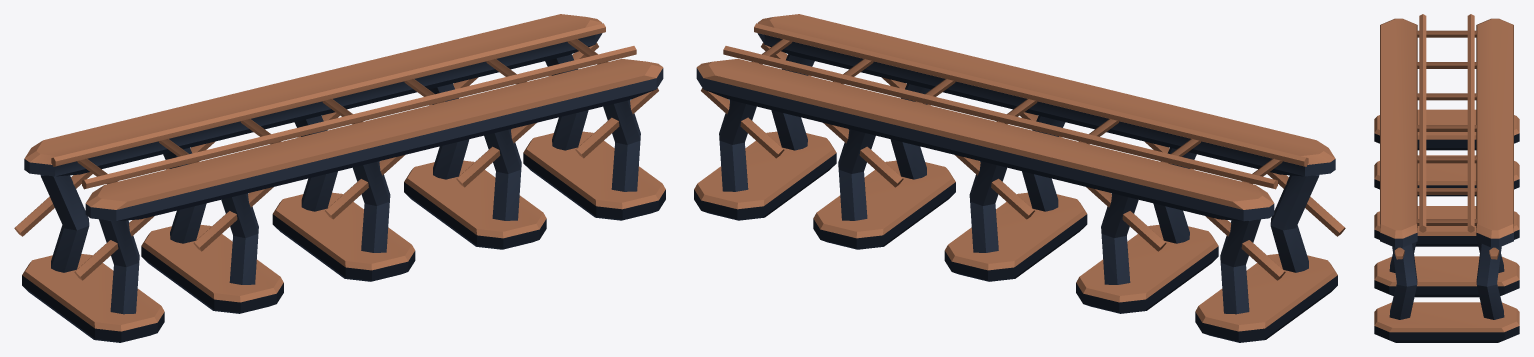
File: forge-service-rail.glb
3 views of the same model, side by side, from view 1: azimuth 30°, elevation 25°; view 2: azimuth 150°, elevation 25°; view 3: azimuth 270°, elevation 25° (orthographic). The views are drawn at different scales.
Parts seen in each view (by area): view 1: forge-service-rail; view 2: forge-service-rail; view 3: forge-service-rail.
Part boxes in pixels (<box>): forge-service-rail: <box>14,14,665,342</box>; forge-service-rail: <box>694,14,1345,342</box>; forge-service-rail: <box>1374,14,1519,342</box>.
Bounding box in the file's own units: 11.93 × 2.84 × 3.26.
